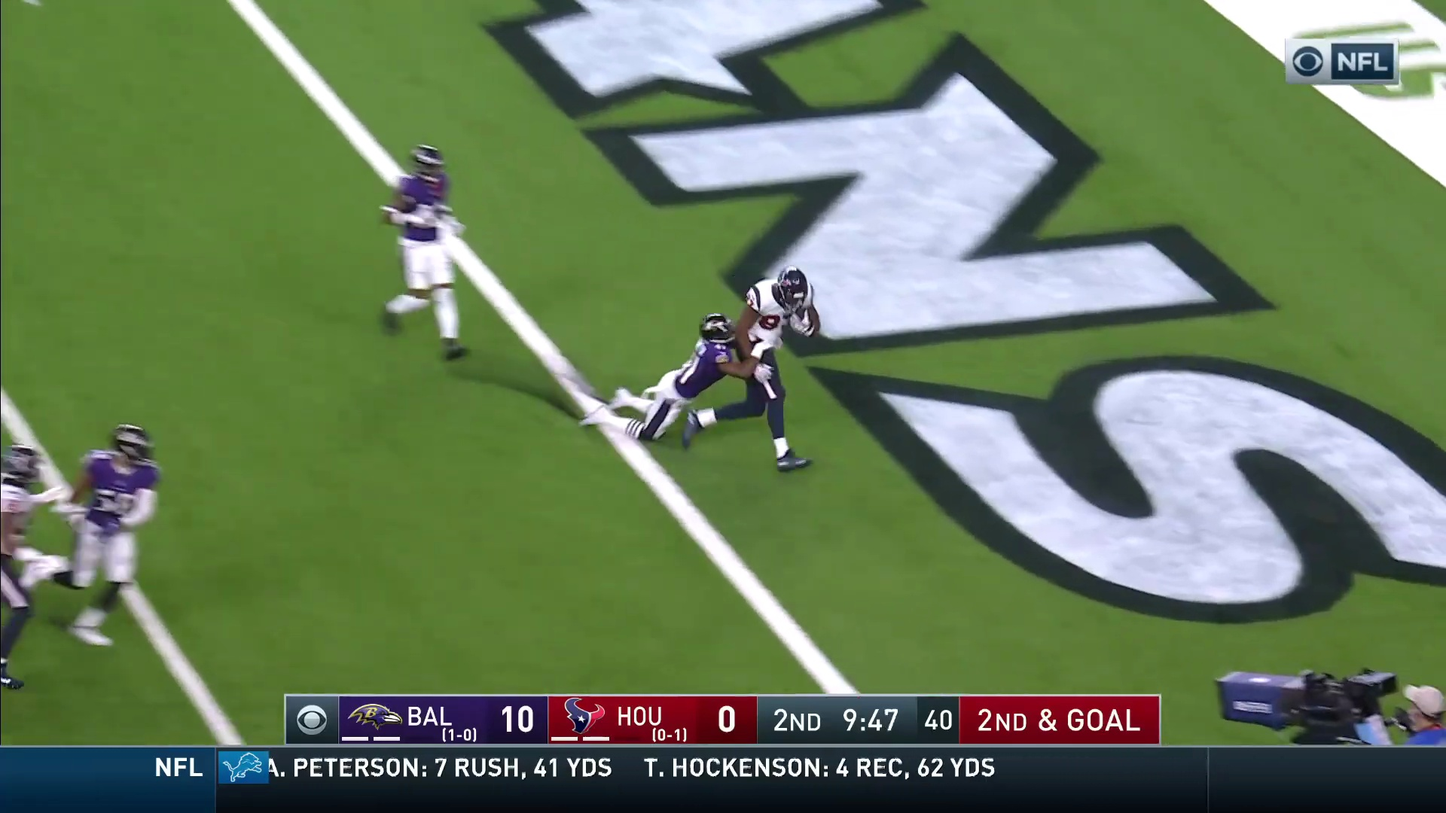Player: (383, 138, 464, 358), (69, 424, 158, 598), (0, 438, 54, 687), (737, 267, 817, 369)
